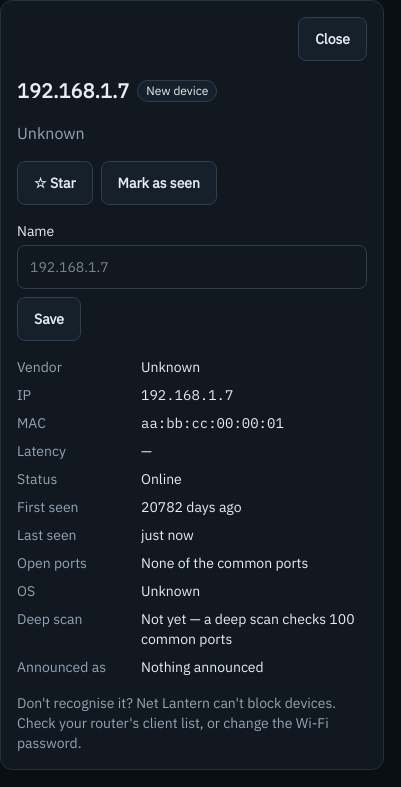
Scenario: DeviceDetails › Mark as seen clears the New badge
Expected: the text "New device" is shown, [137, 80, 217, 102]
Click the button "Mark as seen": (159,183) [100, 161, 217, 205]
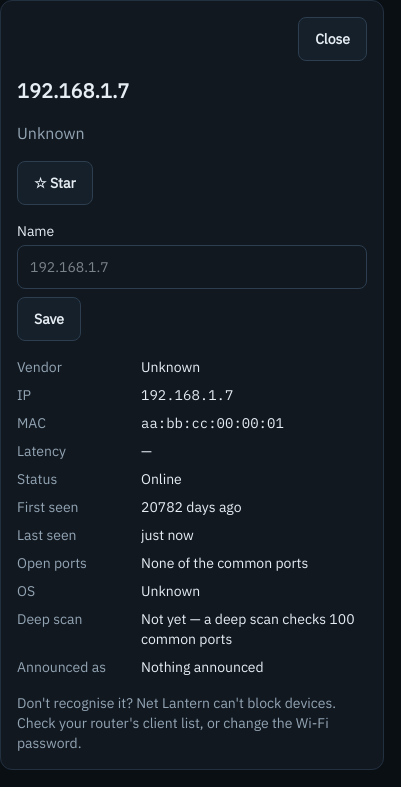
Expected: the text "New device" is gone
Expected: the button "Mark as seen" is gone
